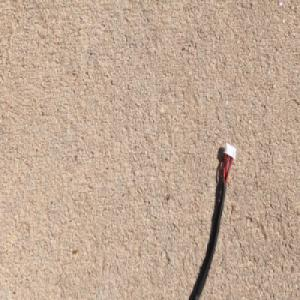Wire: (185, 140, 237, 300)
